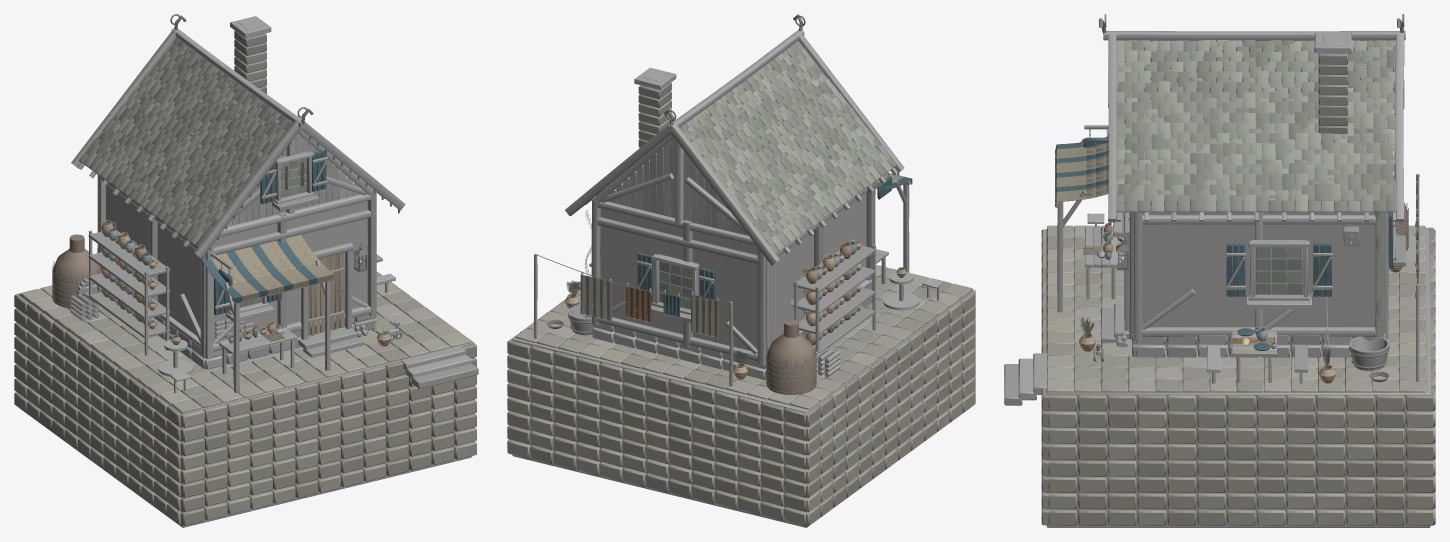
Rendered from potter.glb.
3 renders of one model, left to right at view 1: azimuth 30°, elevation 25°; view 2: azimuth 150°, elevation 25°; view 3: azimuth 270°, elevation 25°, orthographic. The views are drawn at different scales.
Visible parts, largest first — view 1: Grounded stone terrace and worn flagstones__tav_stone, Overlapping weathered terracotta shingles, Warm limewashed walls and stone footings__potter_plaster, Hand hewn oak frame braces and pegged joints__tav_oak, Deep eaves carved ends and ridge ornaments__tav_oak, Workshop canopy timber and striped linen__potter_cloth, Workbench shelves and kick wheel__tav_board, Blue shutters leaded windows and oak threshold__tav_oak, Grounded stone terrace and worn flagstones__tav_mortar, Round brick kiln with iron firebox__potter_clay, Chimney with stone cap__tav_stone, Blue shutters leaded windows and oak threshold__tav_oak_smoo (+12 smaller); view 2: Grounded stone terrace and worn flagstones__tav_stone, Overlapping weathered terracotta shingles, Warm limewashed walls and stone footings__potter_plaster, Hand hewn oak frame braces and pegged joints__tav_oak, Deep eaves carved ends and ridge ornaments__tav_oak, Workbench shelves and kick wheel__tav_board, Breakfast toys patched laundry and household belongings__pot, Grounded stone terrace and worn flagstones__tav_mortar, Round brick kiln with iron firebox__potter_clay, Warm limewashed walls and stone footings__tav_stone, Chimney with stone cap__tav_stone, Thrown pottery tools and work in progress__potter_clay (+9 smaller); view 3: Grounded stone terrace and worn flagstones__tav_stone, Overlapping weathered terracotta shingles, Warm limewashed walls and stone footings__potter_plaster, Grounded stone terrace and worn flagstones__tav_mortar, Hand hewn oak frame braces and pegged joints__tav_oak, Deep eaves carved ends and ridge ornaments__tav_oak, Warm limewashed walls and stone footings__tav_stone, Chimney with stone cap__tav_stone, Workshop canopy timber and striped linen__potter_cloth, Blue shutters leaded windows and oak threshold__tav_oak, Blue shutters leaded windows and oak threshold__cottage_wind, Blue shutters leaded windows and oak threshold__tav_paint (+10 smaller).
Boxes of the visible parts, x1=… form: Grounded stone terrace and worn flagstones__tav_stone: x1=14, y1=271, x2=478, y2=525; Overlapping weathered terracotta shingles: x1=79, y1=38, x2=292, y2=247; Warm limewashed walls and stone footings__potter_plaster: x1=106, y1=60, x2=367, y2=352; Hand hewn oak frame braces and pegged joints__tav_oak: x1=97, y1=45, x2=376, y2=355; Deep eaves carved ends and ridge ornaments__tav_oak: x1=71, y1=15, x2=405, y2=258; Workshop canopy timber and striped linen__potter_cloth: x1=202, y1=234, x2=333, y2=303; Workbench shelves and kick wheel__tav_board: x1=88, y1=230, x2=190, y2=381; Blue shutters leaded windows and oak threshold__tav_oak: x1=211, y1=151, x2=352, y2=339; Grounded stone terrace and worn flagstones__tav_mortar: x1=19, y1=286, x2=472, y2=527; Round brick kiln with iron firebox__potter_clay: x1=52, y1=234, x2=101, y2=308; Chimney with stone cap__tav_stone: x1=230, y1=16, x2=271, y2=106; Blue shutters leaded windows and oak threshold__tav_oak_smoo: x1=308, y1=252, x2=344, y2=335; Grounded stone terrace and worn flagstones__tav_stone: x1=507, y1=264, x2=975, y2=526; Overlapping weathered terracotta shingles: x1=679, y1=40, x2=896, y2=253; Warm limewashed walls and stone footings__potter_plaster: x1=600, y1=52, x2=866, y2=359; Hand hewn oak frame braces and pegged joints__tav_oak: x1=591, y1=55, x2=875, y2=365; Deep eaves carved ends and ridge ornaments__tav_oak: x1=565, y1=14, x2=904, y2=265; Workbench shelves and kick wheel__tav_board: x1=793, y1=245, x2=943, y2=353; Breakfast toys patched laundry and household belongings__pot: x1=580, y1=274, x2=718, y2=338; Grounded stone terrace and worn flagstones__tav_mortar: x1=512, y1=290, x2=972, y2=527; Round brick kiln with iron firebox__potter_clay: x1=766, y1=319, x2=818, y2=394; Warm limewashed walls and stone footings__tav_stone: x1=592, y1=285, x2=872, y2=379; Chimney with stone cap__tav_stone: x1=634, y1=67, x2=676, y2=147; Thrown pottery tools and work in progress__potter_clay: x1=803, y1=240, x2=914, y2=345; Grounded stone terrace and worn flagstones__tav_stone: x1=1004, y1=225, x2=1435, y2=525; Overlapping weathered terracotta shingles: x1=1116, y1=40, x2=1396, y2=212; Warm limewashed walls and stone footings__potter_plaster: x1=1137, y1=58, x2=1375, y2=350; Grounded stone terrace and worn flagstones__tav_mortar: x1=1046, y1=228, x2=1430, y2=527; Hand hewn oak frame braces and pegged joints__tav_oak: x1=1129, y1=48, x2=1388, y2=340; Deep eaves carved ends and ridge ornaments__tav_oak: x1=1099, y1=18, x2=1405, y2=220; Warm limewashed walls and stone footings__tav_stone: x1=1132, y1=333, x2=1385, y2=357; Chimney with stone cap__tav_stone: x1=1315, y1=33, x2=1351, y2=144; Workshop canopy timber and striped linen__potter_cloth: x1=1055, y1=136, x2=1125, y2=207; Blue shutters leaded windows and oak threshold__tav_oak: x1=1084, y1=79, x2=1396, y2=330; Blue shutters leaded windows and oak threshold__cottage_wind: x1=1256, y1=247, x2=1302, y2=294; Blue shutters leaded windows and oak threshold__tav_paint: x1=1083, y1=99, x2=1392, y2=296.
Size of the model in its own units: 8.91 by 10.56 by 9.55.
